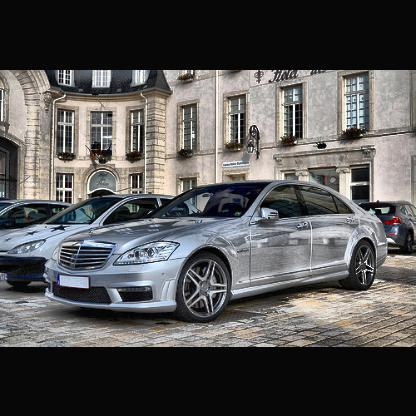Mercedes-Benz S-Class Sedan 2012: (45, 178, 392, 322)
